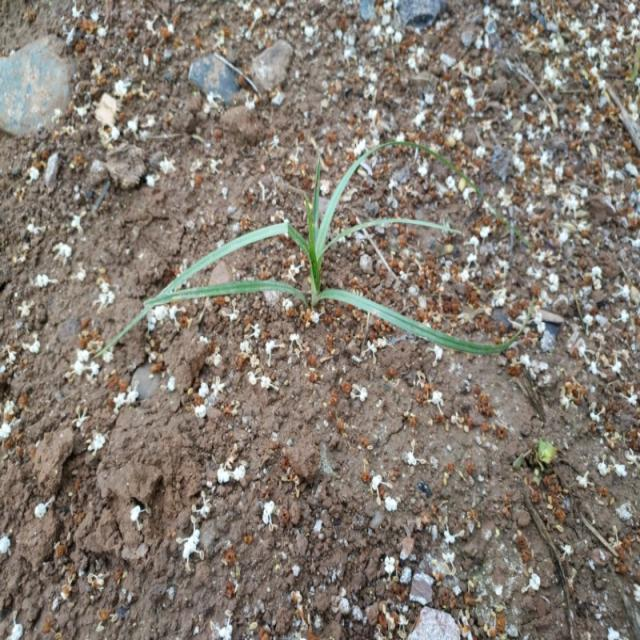sedge: (115, 142, 515, 391)
